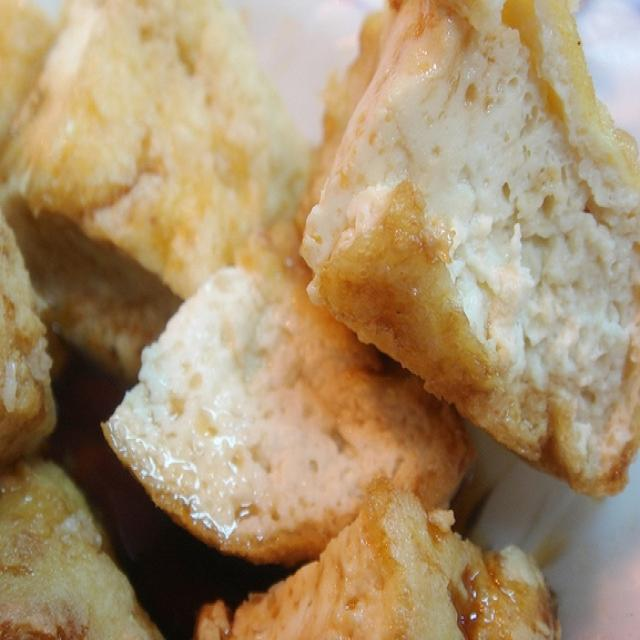豆腐料理: (28, 41, 606, 618)
